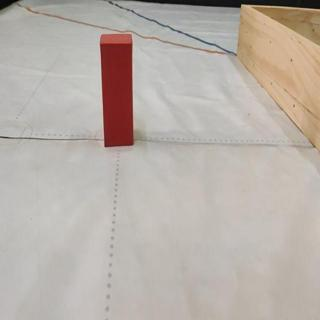redbox: (99, 31, 136, 147)
